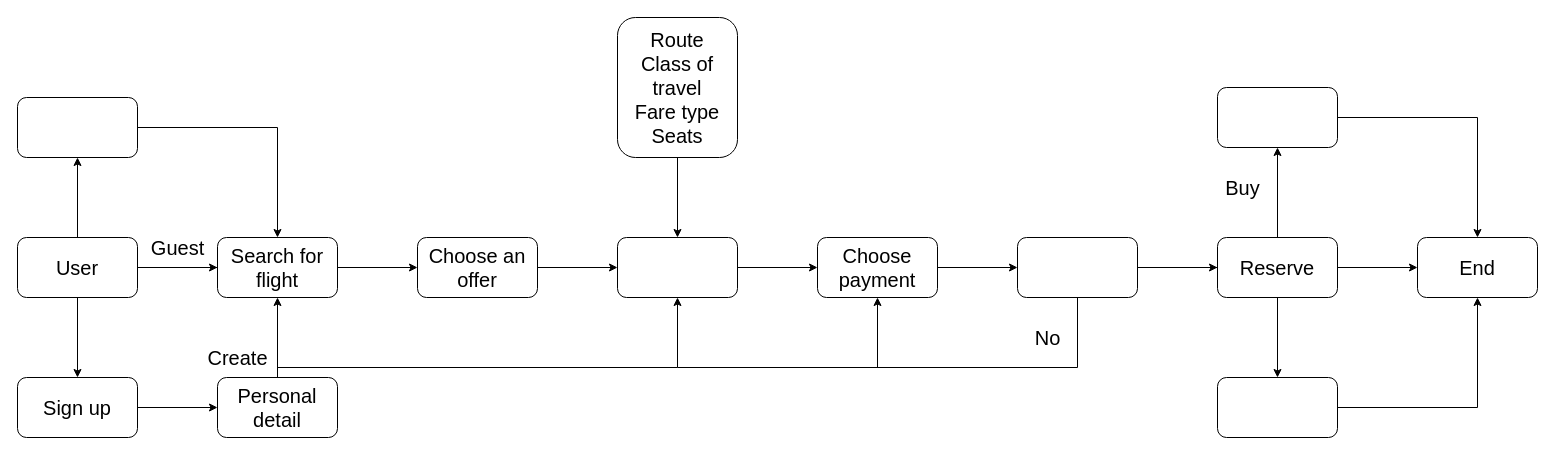
This 1555x455 diagram has some shape labels left out. The centre of each missing label's shape, as x and y in pixels:
"Cancel offer" belongs at [1277,407].
"Confirm Booking" belongs at [1077,267].
"Extra bags" belongs at [1277,117].
"Login" belongs at [77,127].
"Modify an offer" belongs at [677,267].
